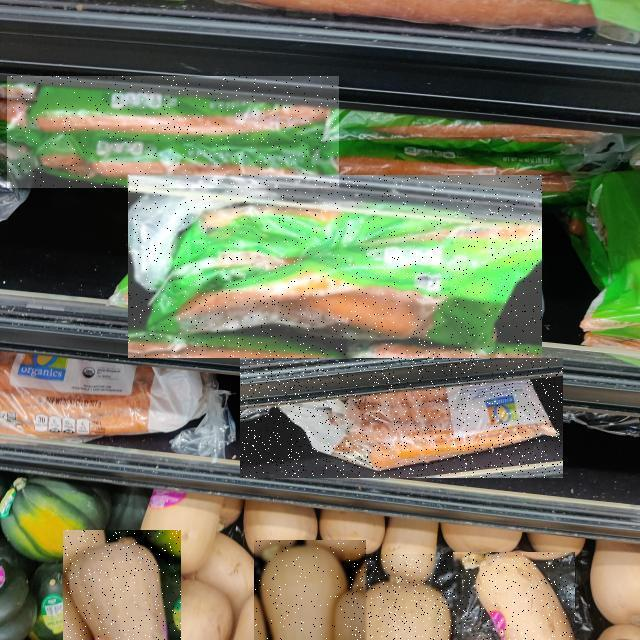Carrot: (129, 175, 543, 358), (240, 359, 563, 479), (7, 76, 339, 188)
Squash: (63, 530, 181, 640), (255, 540, 367, 640), (453, 552, 575, 640), (351, 554, 463, 640)
